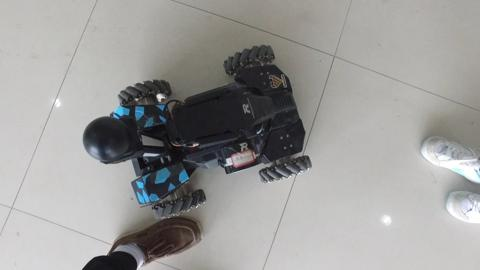chariot: (81, 52, 307, 213)
